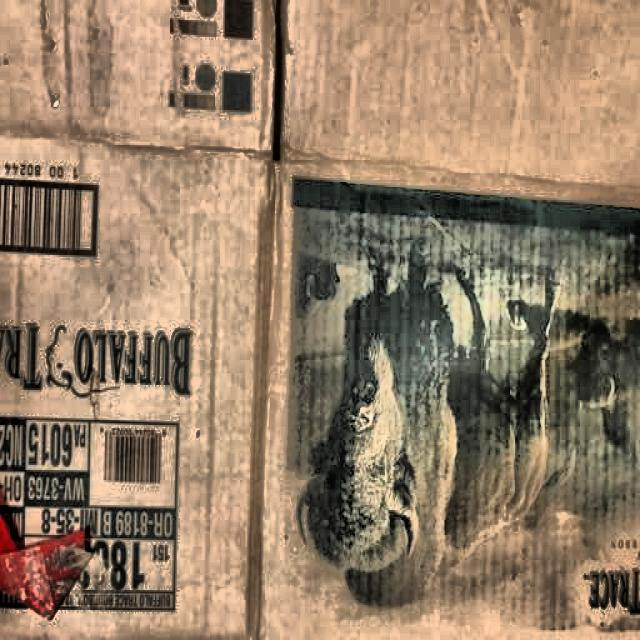cardboard: (4, 6, 637, 626)
